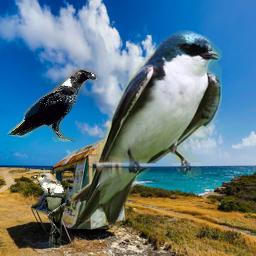Crow: (7, 69, 98, 142)
Cuckoo: (31, 172, 68, 248)
Swallow: (69, 30, 222, 229)
